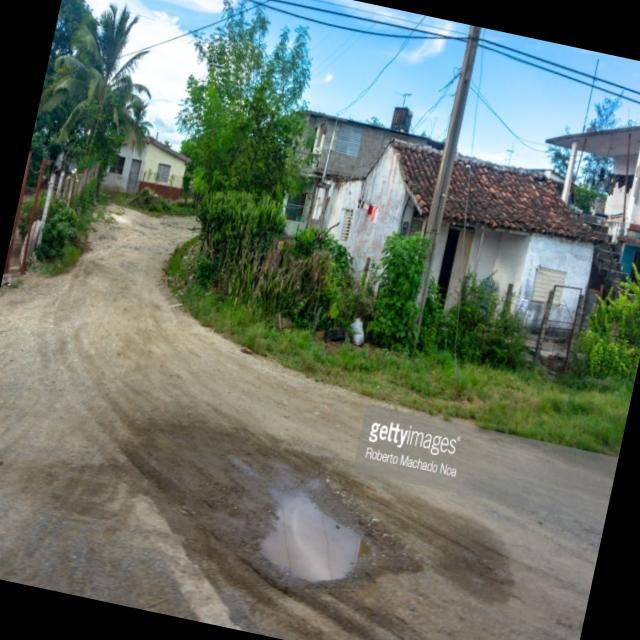Pothole: (212, 442, 419, 624)
